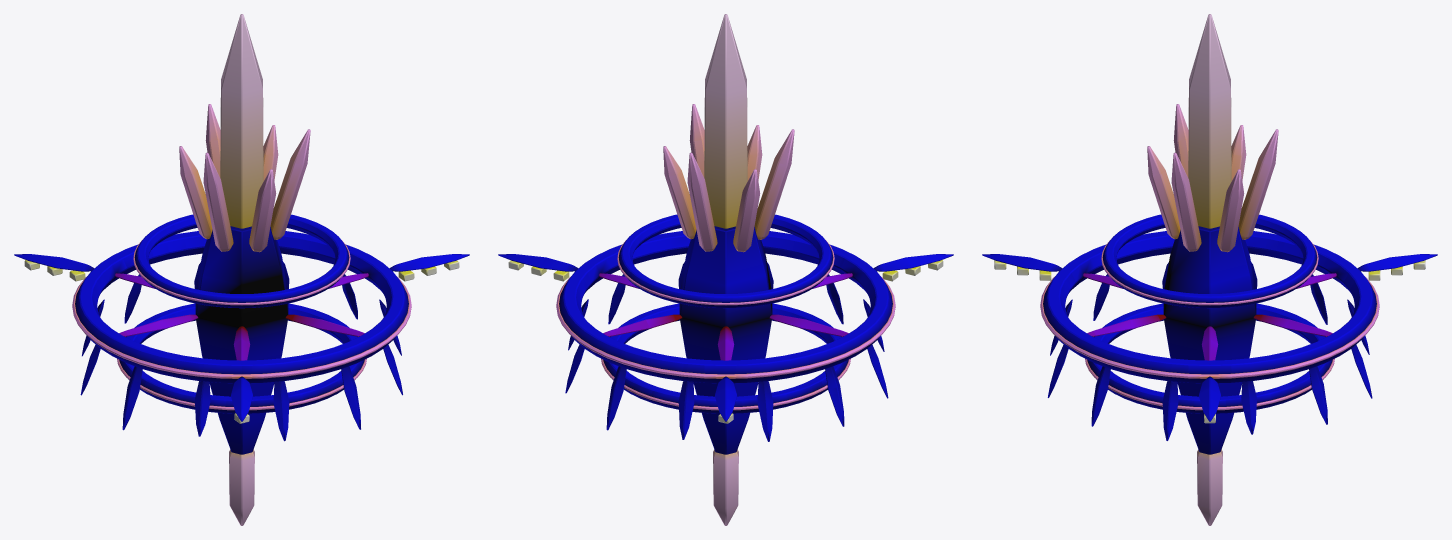
The model's file is station_silex_citadel.fbx.
3 views of the same model, side by side, from view 1: azimuth 30°, elevation 25°; view 2: azimuth 150°, elevation 25°; view 3: azimuth 270°, elevation 25° (orthographic).
Visible parts, largest first — view 1: station_silex_citadel; view 2: station_silex_citadel; view 3: station_silex_citadel.
Part boxes in pixels (<box>): station_silex_citadel: <box>14,14,469,525</box>; station_silex_citadel: <box>498,14,953,525</box>; station_silex_citadel: <box>982,14,1437,525</box>.
Size of the model in its own units: 5.81 by 7.57 by 6.12.
